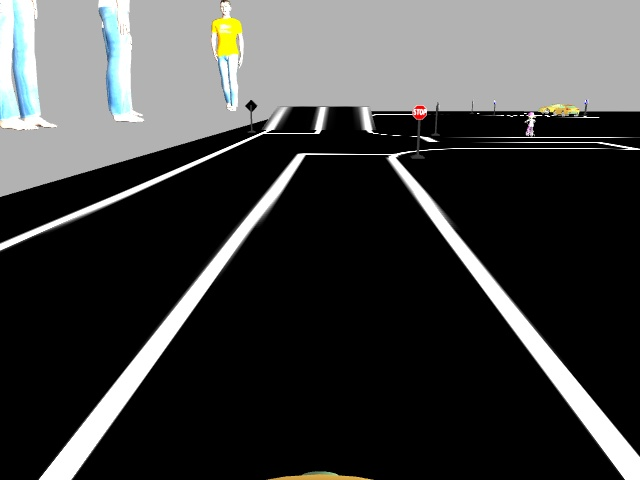Stop: (410, 102, 429, 121)
